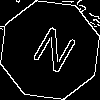N: (25, 25, 79, 83)
